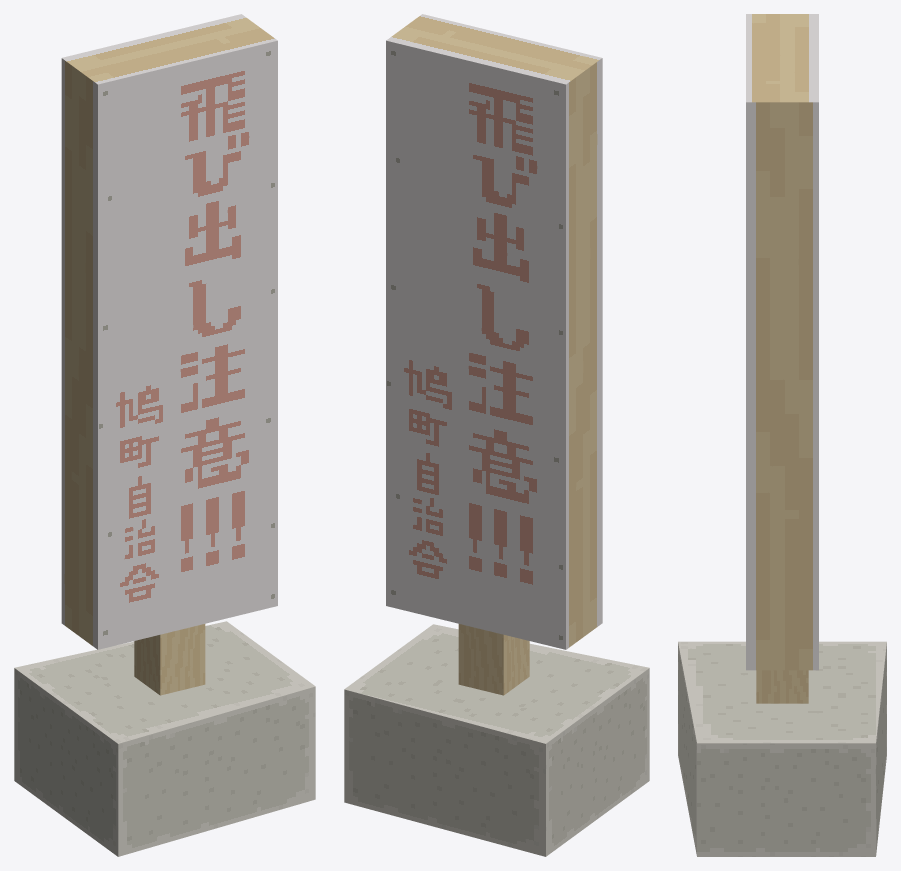
The model's file is 0090_Warning_Sign.glb.
3 views of the same model, side by side, from view 1: azimuth 30°, elevation 25°; view 2: azimuth 150°, elevation 25°; view 3: azimuth 270°, elevation 25° (orthographic).
Visible parts, largest first — view 1: part_0; view 2: part_0; view 3: part_0.
Boxes of the visible parts, x1,y1,x2,y2 form: part_0: [14, 14, 315, 856]; part_0: [344, 14, 649, 856]; part_0: [678, 14, 886, 856].
Size of the model in its own units: 0.23 by 0.79 by 0.2.
1 material, 1 textured.
